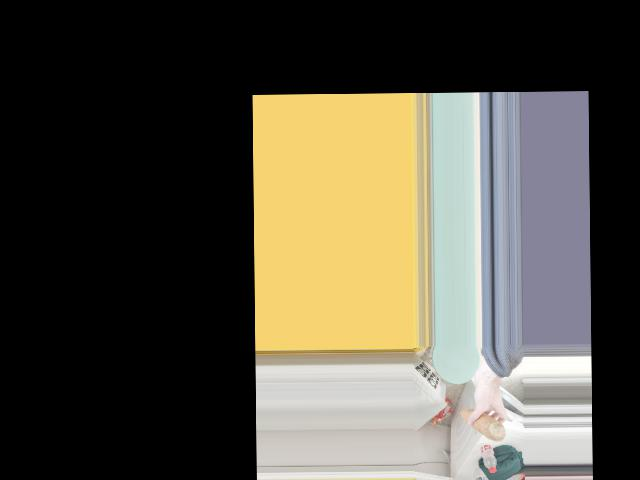sweet_potato: (459, 409, 505, 442)
